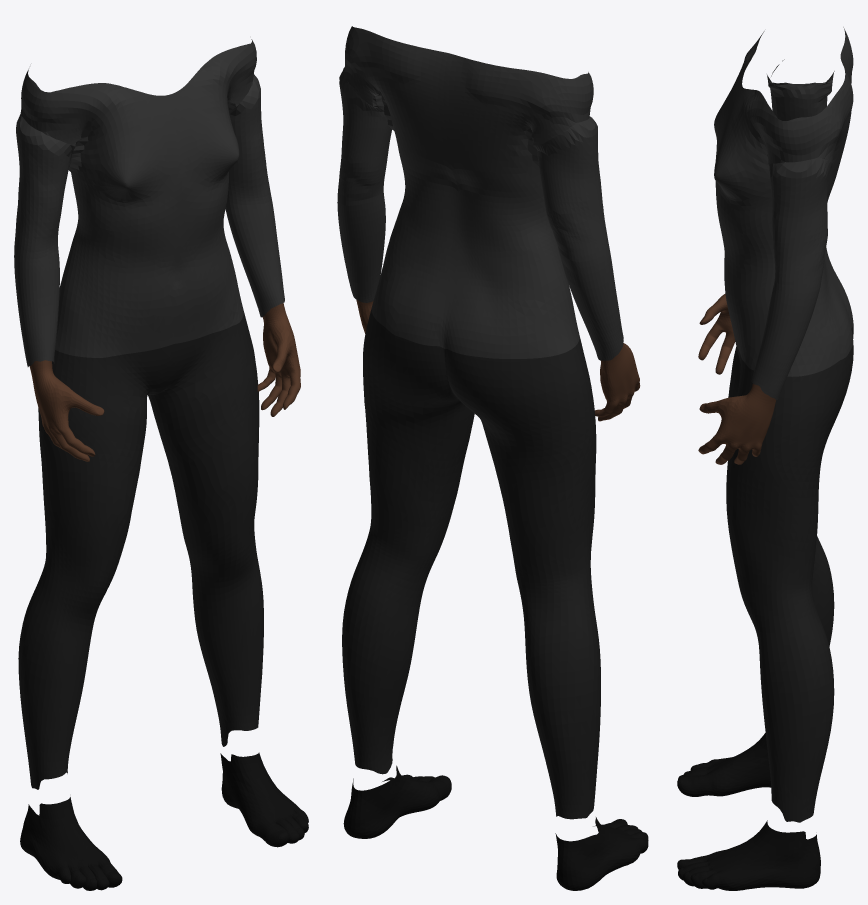
The model's file is hd_f_dark_body.glb.
The picture shows the model from 3 angles, left to right: view 1: azimuth 30°, elevation 25°; view 2: azimuth 150°, elevation 25°; view 3: azimuth 270°, elevation 25°; orthographic projection. The views are drawn at different scales.
Visible parts, largest first — view 1: outfit, shoes, bodyskin; view 2: outfit, shoes, bodyskin; view 3: outfit, shoes, bodyskin.
Boxes of the visible parts, x1,y1,x2,y2 form: outfit: (14, 39, 284, 789); shoes: (20, 752, 308, 890); bodyskin: (29, 303, 300, 461); outfit: (337, 26, 623, 819); shoes: (343, 765, 648, 890); bodyskin: (356, 300, 640, 421); outfit: (714, 27, 853, 822); shoes: (677, 733, 820, 890); bodyskin: (698, 294, 776, 464).
Size of the model in its own units: 0.4831 by 1.41 by 0.2891.
